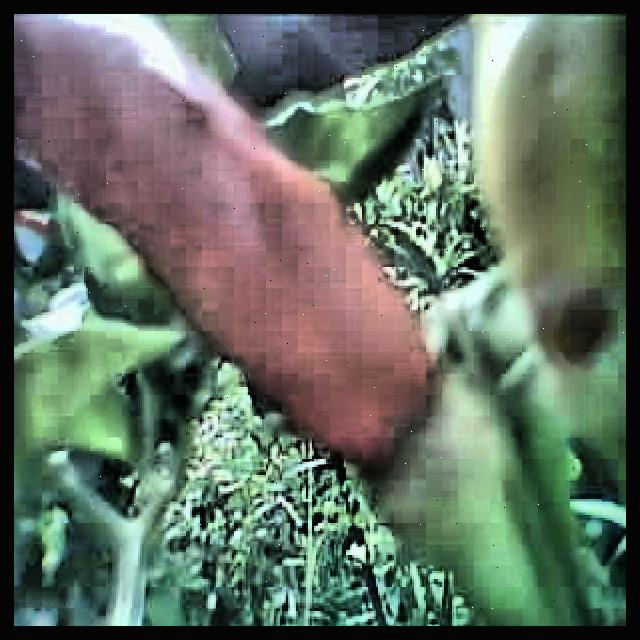Cabai: (26, 14, 428, 443)
